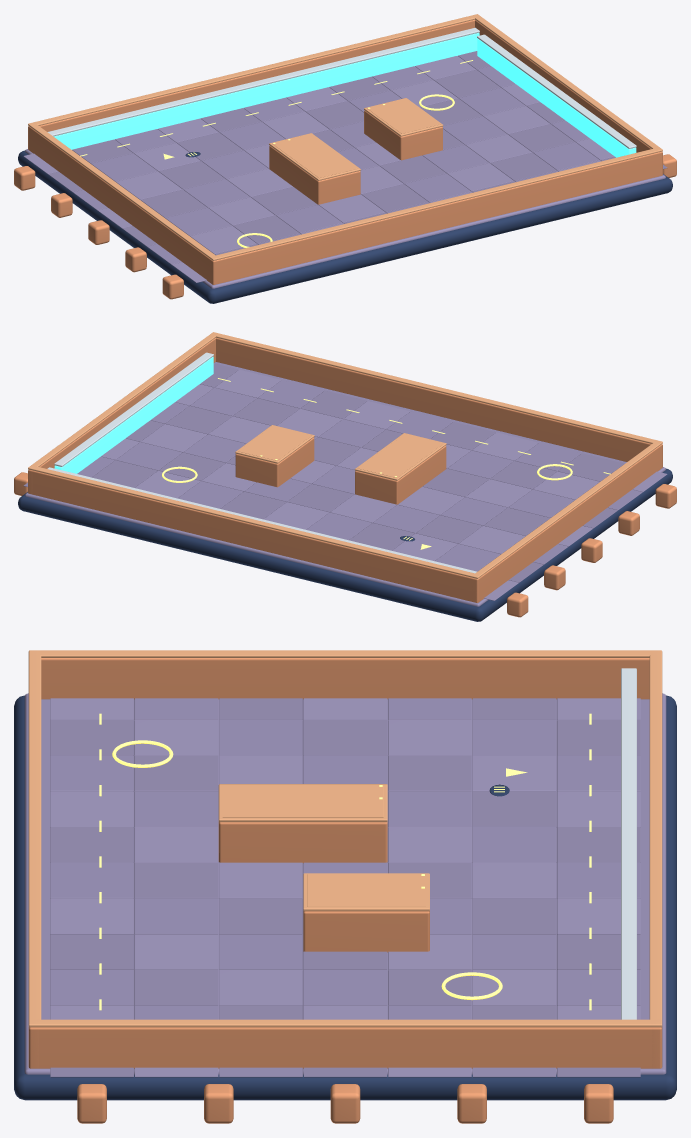
The model's file is forge.glb.
3 renders of one model, top to bottom at view 1: azimuth 30°, elevation 25°; view 2: azimuth 150°, elevation 25°; view 3: azimuth 270°, elevation 25°, orthographic. The views are drawn at different scales.
Visible parts, largest first — view 1: SOLID 1 border, Floating island, SOLID 6 reflector, SOLID 2 border, SOLID 0 border, SOLID crown 6 reflector, SOLID 7 reflector, SOLID crown 1 border, SOLID crown 0 border, SOLID 4 cover, Ground, SOLID 5 cover (+60 smaller); view 2: SOLID 0 border, SOLID 1 border, Floating island, SOLID 2 border, Ground, SOLID 7 reflector, SOLID crown 0 border, SOLID crown 1 border, SOLID 4 cover, SOLID 5 cover, Roof trim, SOLID 3 border (+59 smaller); view 3: SOLID 3 border, SOLID 2 border, Floating island, Ground, SOLID 4 cover, SOLID crown 3 border, SOLID crown 6 reflector, Roof trim, SOLID crown 1 border, SOLID crown 0 border, SOLID 5 cover, SOLID crown 2 border (+80 smaller).
Boxes of the visible parts, left/top/right/bottom form: SOLID 1 border: left=210, top=152, right=662, bottom=284; Floating island: left=18, top=150, right=672, bottom=303; SOLID 6 reflector: left=53, top=32, right=479, bottom=149; SOLID 2 border: left=28, top=126, right=218, bottom=284; SOLID 0 border: left=39, top=19, right=474, bottom=131; SOLID crown 6 reflector: left=47, top=27, right=479, bottom=136; SOLID 7 reflector: left=477, top=38, right=636, bottom=157; SOLID crown 1 border: left=210, top=147, right=662, bottom=260; SOLID crown 0 border: left=28, top=14, right=479, bottom=125; SOLID 4 cover: left=269, top=146, right=360, bottom=204; Ground: left=25, top=59, right=665, bottom=288; SOLID 5 cover: left=364, top=110, right=442, bottom=160; SOLID 0 border: left=29, top=470, right=480, bottom=602; SOLID 1 border: left=216, top=337, right=662, bottom=466; Floating island: left=18, top=468, right=672, bottom=621; SOLID 2 border: left=472, top=444, right=662, bottom=602; Ground: left=25, top=362, right=665, bottom=606; SOLID 7 reflector: left=54, top=356, right=213, bottom=473; SOLID crown 0 border: left=28, top=465, right=480, bottom=578; SOLID crown 1 border: left=210, top=332, right=662, bottom=443; SOLID 4 cover: left=355, top=445, right=446, bottom=504; SOLID 5 cover: left=235, top=437, right=314, bottom=487; Roof trim: left=358, top=434, right=443, bottom=477; SOLID 3 border: left=28, top=338, right=215, bottom=494; SOLID 3 border: left=28, top=1027, right=662, bottom=1068; SOLID 2 border: left=41, top=658, right=649, bottom=699; Floating island: left=14, top=695, right=676, bottom=1100; Ground: left=24, top=693, right=666, bottom=1074; SOLID 4 cover: left=218, top=821, right=387, bottom=863; SOLID crown 3 border: left=28, top=1019, right=662, bottom=1027; SOLID crown 6 reflector: left=621, top=668, right=636, bottom=1019; Roof trim: left=222, top=785, right=383, bottom=817; SOLID crown 1 border: left=28, top=650, right=41, bottom=1026; SOLID crown 0 border: left=649, top=650, right=662, bottom=1027; SOLID 5 cover: left=303, top=911, right=429, bottom=952; SOLID crown 2 border: left=28, top=650, right=662, bottom=657.
Size of the model in its own units: 23.7 by 2.03 by 15.7.
